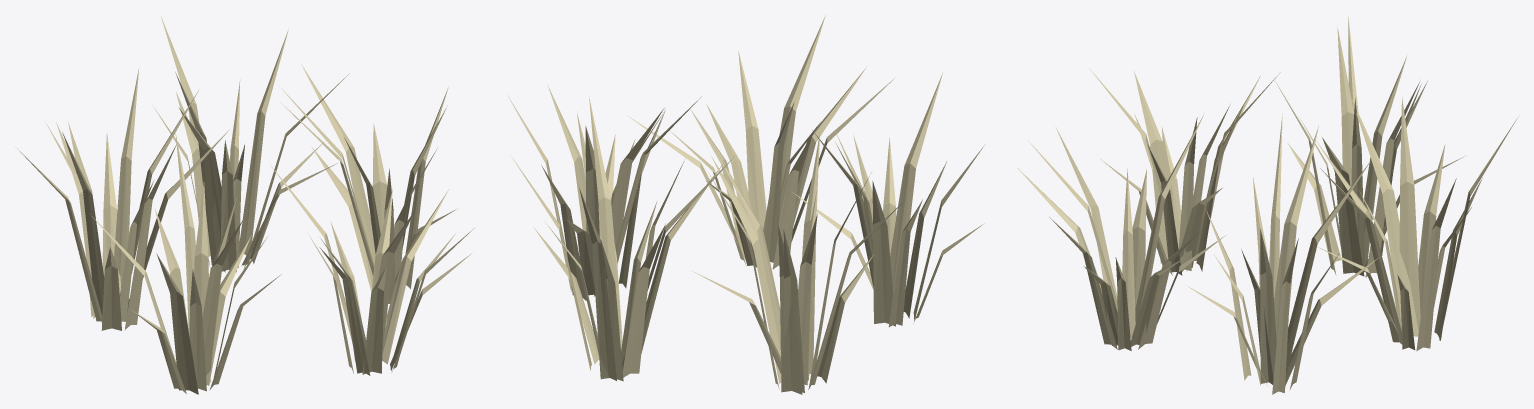
File: DuneGrass.glb
3 renders of one model, left to right at view 1: azimuth 30°, elevation 25°; view 2: azimuth 150°, elevation 25°; view 3: azimuth 270°, elevation 25°, orthographic. The views are drawn at different scales.
Parts seen in each view (by area): view 1: Dune grass blades; view 2: Dune grass blades; view 3: Dune grass blades.
Boxes of the visible parts, <box> form: Dune grass blades: <box>15,16,474,394</box>; Dune grass blades: <box>507,15,984,394</box>; Dune grass blades: <box>1017,16,1517,394</box>.
Bounding box in the file's own units: 1.34 × 0.6805 × 1.42.
